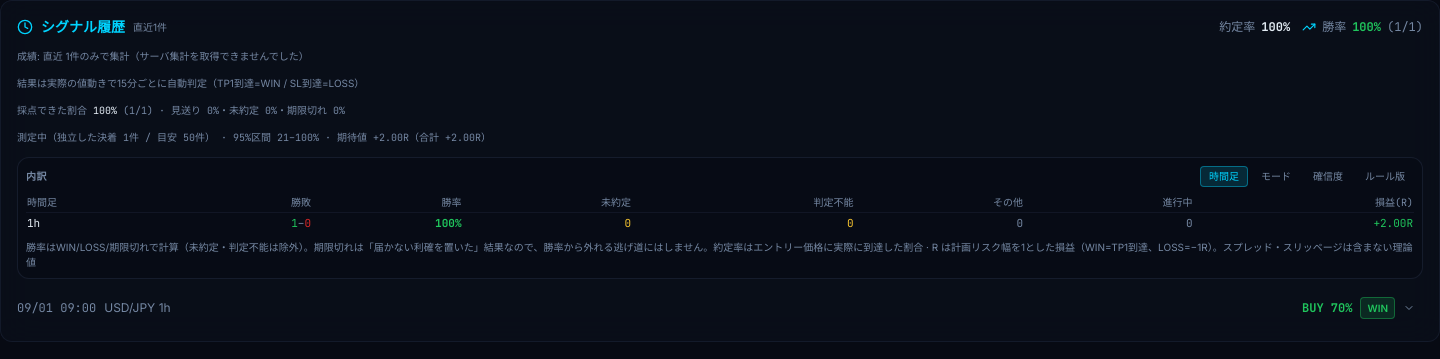
Scenario: AnalysisHistory across two entry contracts › labels the old contract in the rulebook breakdown
Step 1. Click the button "ルール版" → click(1385, 176), box [1356,166,1414,187]
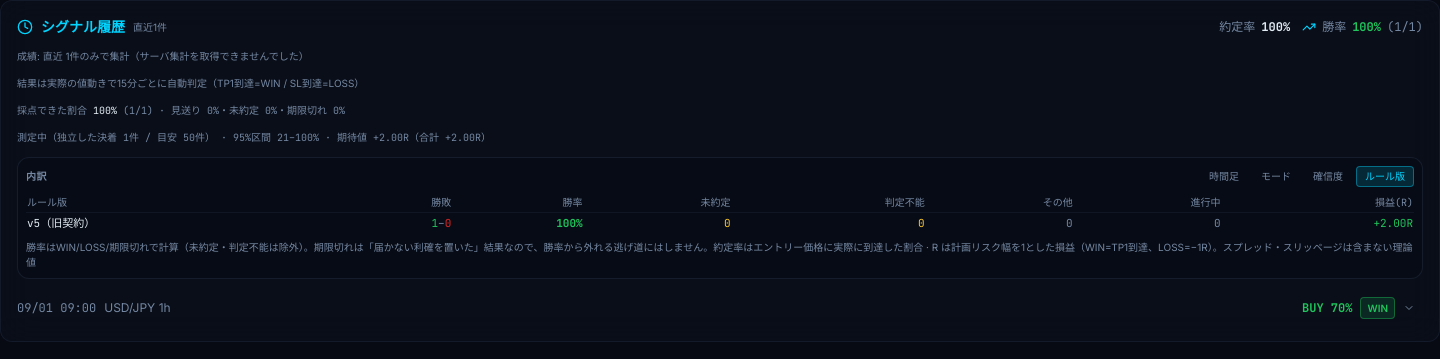
Now the text "v5（旧契約）" is shown, box [26,212,351,234]
